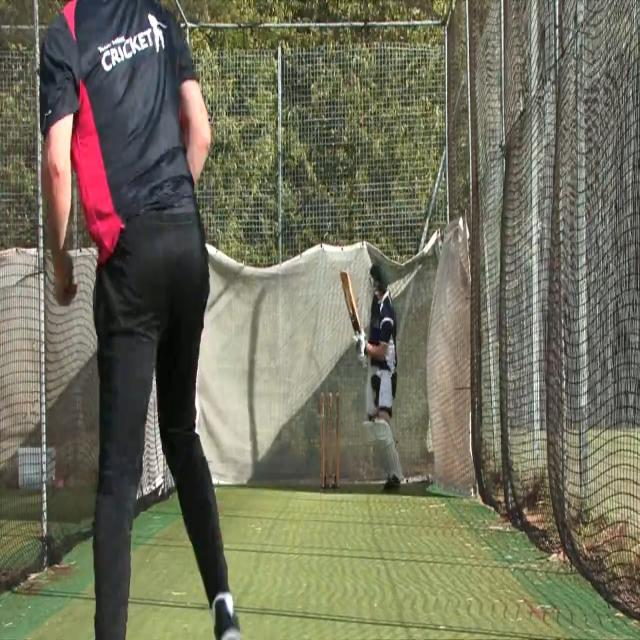batsman: (338, 257, 407, 497)
